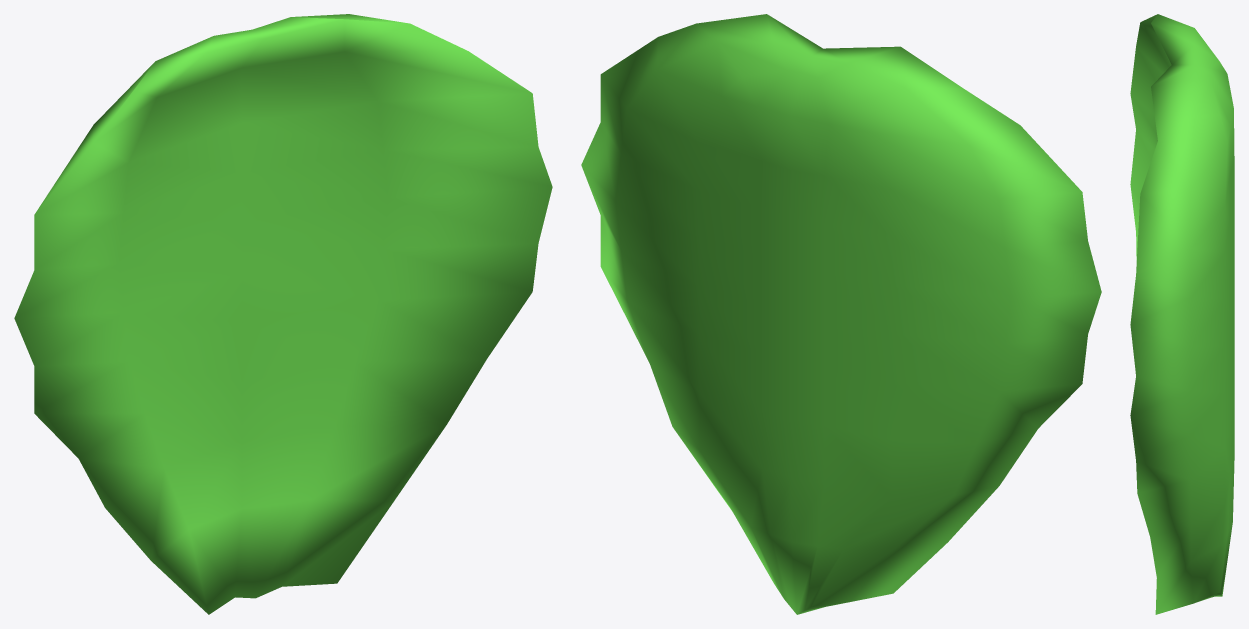
Rendered from lettuceslice.fbx.
3 renders of one model, left to right at view 1: azimuth 30°, elevation 25°; view 2: azimuth 150°, elevation 25°; view 3: azimuth 270°, elevation 25°, orthographic. The views are drawn at different scales.
Visible parts, largest first — view 1: Cube; view 2: Cube; view 3: Cube.
Part boxes in pixels (x1=…): Cube: x1=14, y1=14, x2=552, y2=614; Cube: x1=581, y1=14, x2=1101, y2=614; Cube: x1=1130, y1=14, x2=1234, y2=614.
Size of the model in its own units: 158 by 162 by 28.22.
